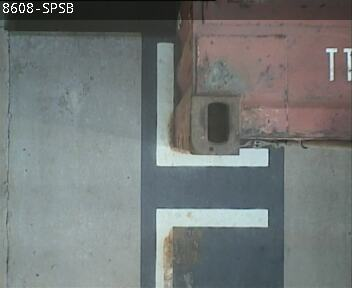groundmarker_1: (156, 40, 269, 288)
